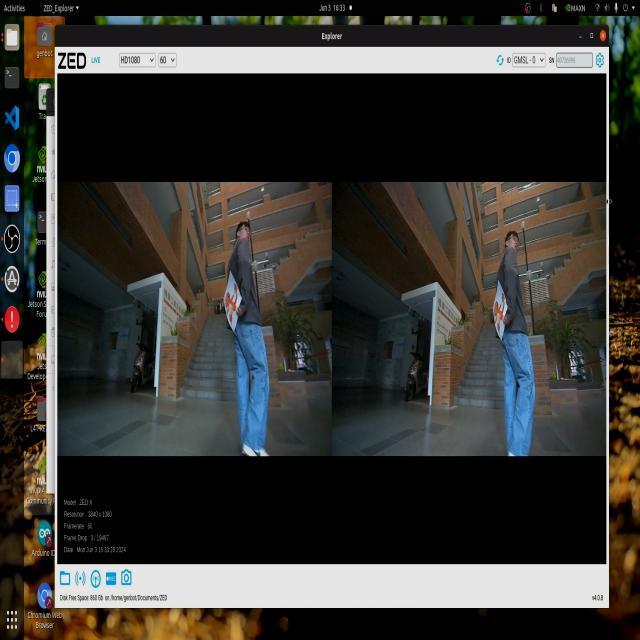red: (491, 295, 508, 343), (222, 286, 240, 324)
